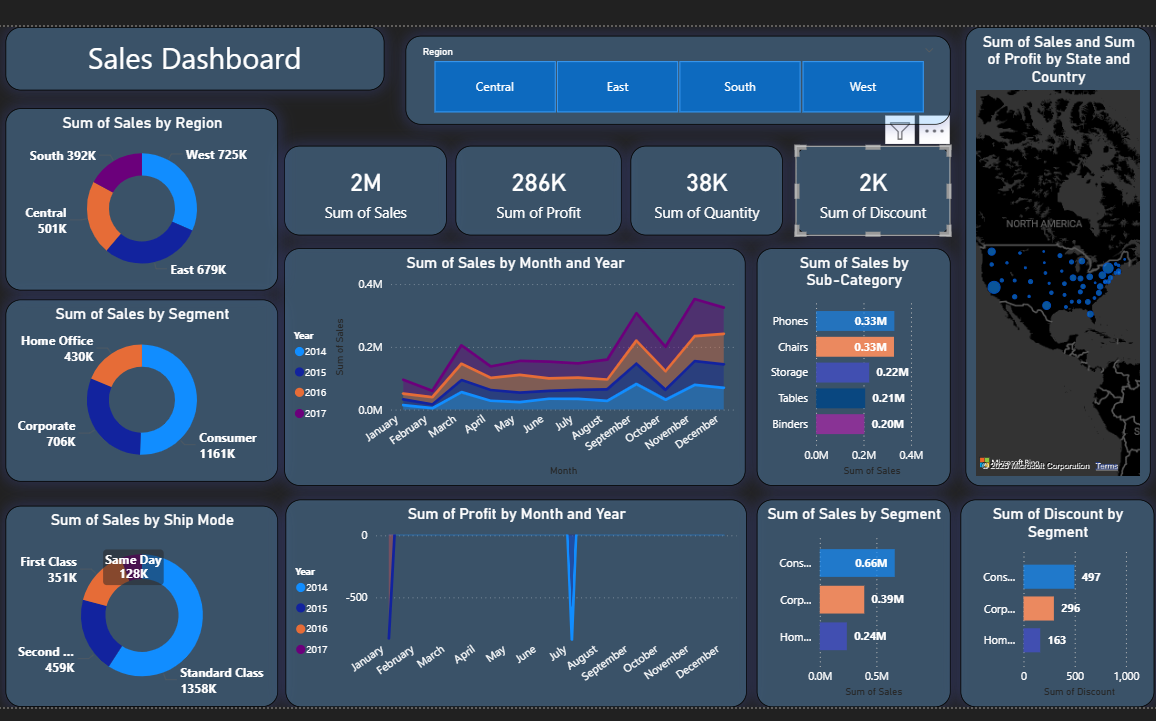

The page's visual inventory and layout, read from the dashboard file:
{"tool":"powerbi","page":{"name":"Page 1","canvas":[1280,746],"ordinal":0},"visuals":[{"type":"donutChart","fields":{"Category":["Sample - Superstore (2).Segment"],"Y":["Sum(Sample - Superstore (2).Sales)"]},"box":[13.7,299.1,299.1,200.3],"z":0},{"type":"donutChart","fields":{"Category":["Sample - Superstore (2).Ship Mode"],"Y":["Sum(Sample - Superstore (2).Sales)"]},"box":[13.7,525.6,299.1,220.9],"z":1000},{"type":"stackedAreaChart","fields":{"Category":["Sample - Superstore (2).Order Date.Variation.Date Hierarchy.Month"],"Y":["Sum(Sample - Superstore (2).Sales)"],"Series":["Sample - Superstore (2).Order Date.Variation.Date Hierarchy.Year"]},"box":[319.7,242.9,506.3,260.7],"z":2000},{"type":"stackedAreaChart","fields":{"Category":["Sample - Superstore (2).Order Date.Variation.Date Hierarchy.Month"],"Y":["Sum(Sample - Superstore (2).Profit)"],"Series":["Sample - Superstore (2).Order Date.Variation.Date Hierarchy.Year"]},"box":[321.1,518.7,506.3,227.8],"z":3000},{"type":"map","fields":{"Size":["Sum(Sample - Superstore (2).Sales)"],"Series":["Sample - Superstore (2).Country"],"Category":["Sample - Superstore (2).State"]},"box":[1067.6,0,203.1,503.6],"z":4000},{"type":"barChart","fields":{"Category":["Sample - Superstore (2).Sub-Category"],"Y":["Sum(Sample - Superstore (2).Sales)"]},"box":[838.4,242.9,212.7,260.7],"z":5000},{"type":"barChart","fields":{"Category":["Sample - Superstore (2).Segment"],"Y":["Sum(Sample - Superstore (2).Sales)"]},"box":[838.4,518.7,212.7,227.8],"z":6000},{"type":"card","fields":{"Values":["Sum(Sample - Superstore (2).Sales)"]},"box":[319.7,130.4,178.4,98.8],"z":7000},{"type":"card","fields":{"Values":["Sum(Sample - Superstore (2).Profit)"]},"box":[507.7,130.4,182.5,98.8],"z":8000},{"type":"card","fields":{"Values":["Sum(Sample - Superstore (2).Quantity)"]},"box":[699.8,130.4,167.4,98.8],"z":9000},{"type":"card","fields":{"Values":["Sum(Sample - Superstore (2).Discount)"]},"box":[881,130.4,170.2,98.8],"z":10000},{"type":"slicer","fields":{"Values":["Sample - Superstore (2).Region"]},"box":[452.8,9.6,598.3,97.4],"z":11000},{"type":"textbox","box":[13.7,0,415.8,70],"z":12000},{"type":"donutChart","fields":{"Y":["Sum(Sample - Superstore (2).Sales)"],"Category":["Sample - Superstore (2).Region"]},"box":[13.7,89.2,299.1,200.3],"z":13000},{"type":"barChart","fields":{"Y":["Sum(Sample - Superstore (2).Discount)"],"Category":["Sample - Superstore (2).Segment"]},"box":[1062.1,518.7,212.7,227.8],"z":14000}]}

Visuals, with their boxes on the page's 1280x746 design canvas (x1, y1, x2, y2). These are canvas units, not pixel positions in the 1156x721 screenshot, which may show the page scaled, cropped or inside an application window:
donutChart - Sample - Superstore (2).Segment x Sum(Sample - Superstore (2).Sales): l=14, t=299, r=313, b=499
donutChart - Sample - Superstore (2).Ship Mode x Sum(Sample - Superstore (2).Sales): l=14, t=526, r=313, b=746
stackedAreaChart - Sample - Superstore (2).Order Date.Variation.Date Hierarchy.Month x Sum(Sample - Superstore (2).Sales): l=320, t=243, r=826, b=504
stackedAreaChart - Sample - Superstore (2).Order Date.Variation.Date Hierarchy.Month x Sum(Sample - Superstore (2).Profit): l=321, t=519, r=827, b=746
map - Sum(Sample - Superstore (2).Sales) x Sample - Superstore (2).Country: l=1068, t=0, r=1271, b=504
barChart - Sample - Superstore (2).Sub-Category x Sum(Sample - Superstore (2).Sales): l=838, t=243, r=1051, b=504
barChart - Sample - Superstore (2).Segment x Sum(Sample - Superstore (2).Sales): l=838, t=519, r=1051, b=746
card - Sum(Sample - Superstore (2).Sales): l=320, t=130, r=498, b=229
card - Sum(Sample - Superstore (2).Profit): l=508, t=130, r=690, b=229
card - Sum(Sample - Superstore (2).Quantity): l=700, t=130, r=867, b=229
card - Sum(Sample - Superstore (2).Discount): l=881, t=130, r=1051, b=229
slicer - Sample - Superstore (2).Region: l=453, t=10, r=1051, b=107
textbox: l=14, t=0, r=430, b=70
donutChart - Sum(Sample - Superstore (2).Sales) x Sample - Superstore (2).Region: l=14, t=89, r=313, b=290
barChart - Sum(Sample - Superstore (2).Discount) x Sample - Superstore (2).Segment: l=1062, t=519, r=1275, b=746
